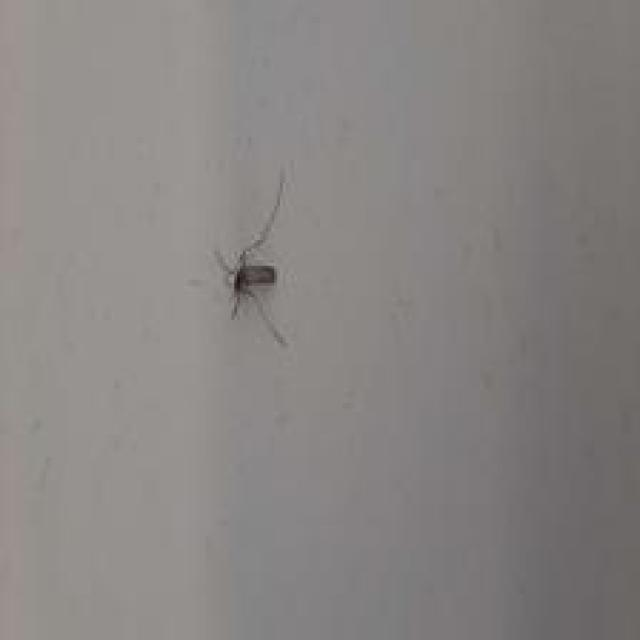Culex: (212, 168, 292, 348)
